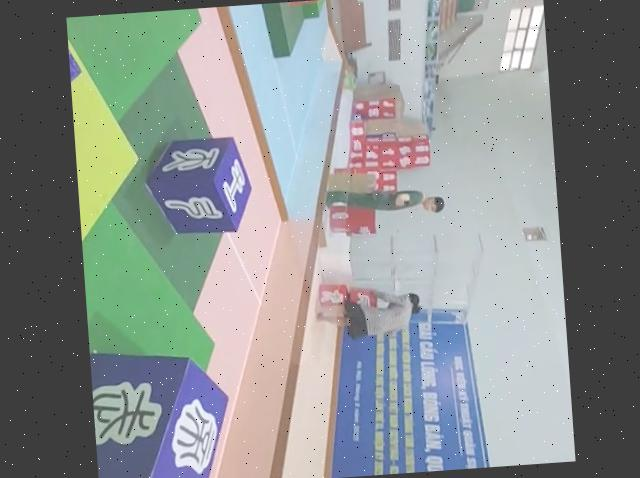R2 Fake Blue: (88, 344, 231, 478), (141, 136, 255, 241)
